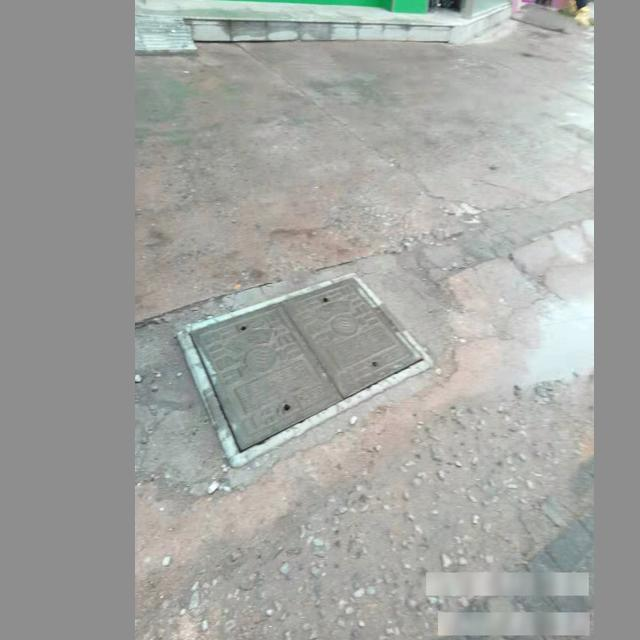good: (180, 269, 435, 468)
